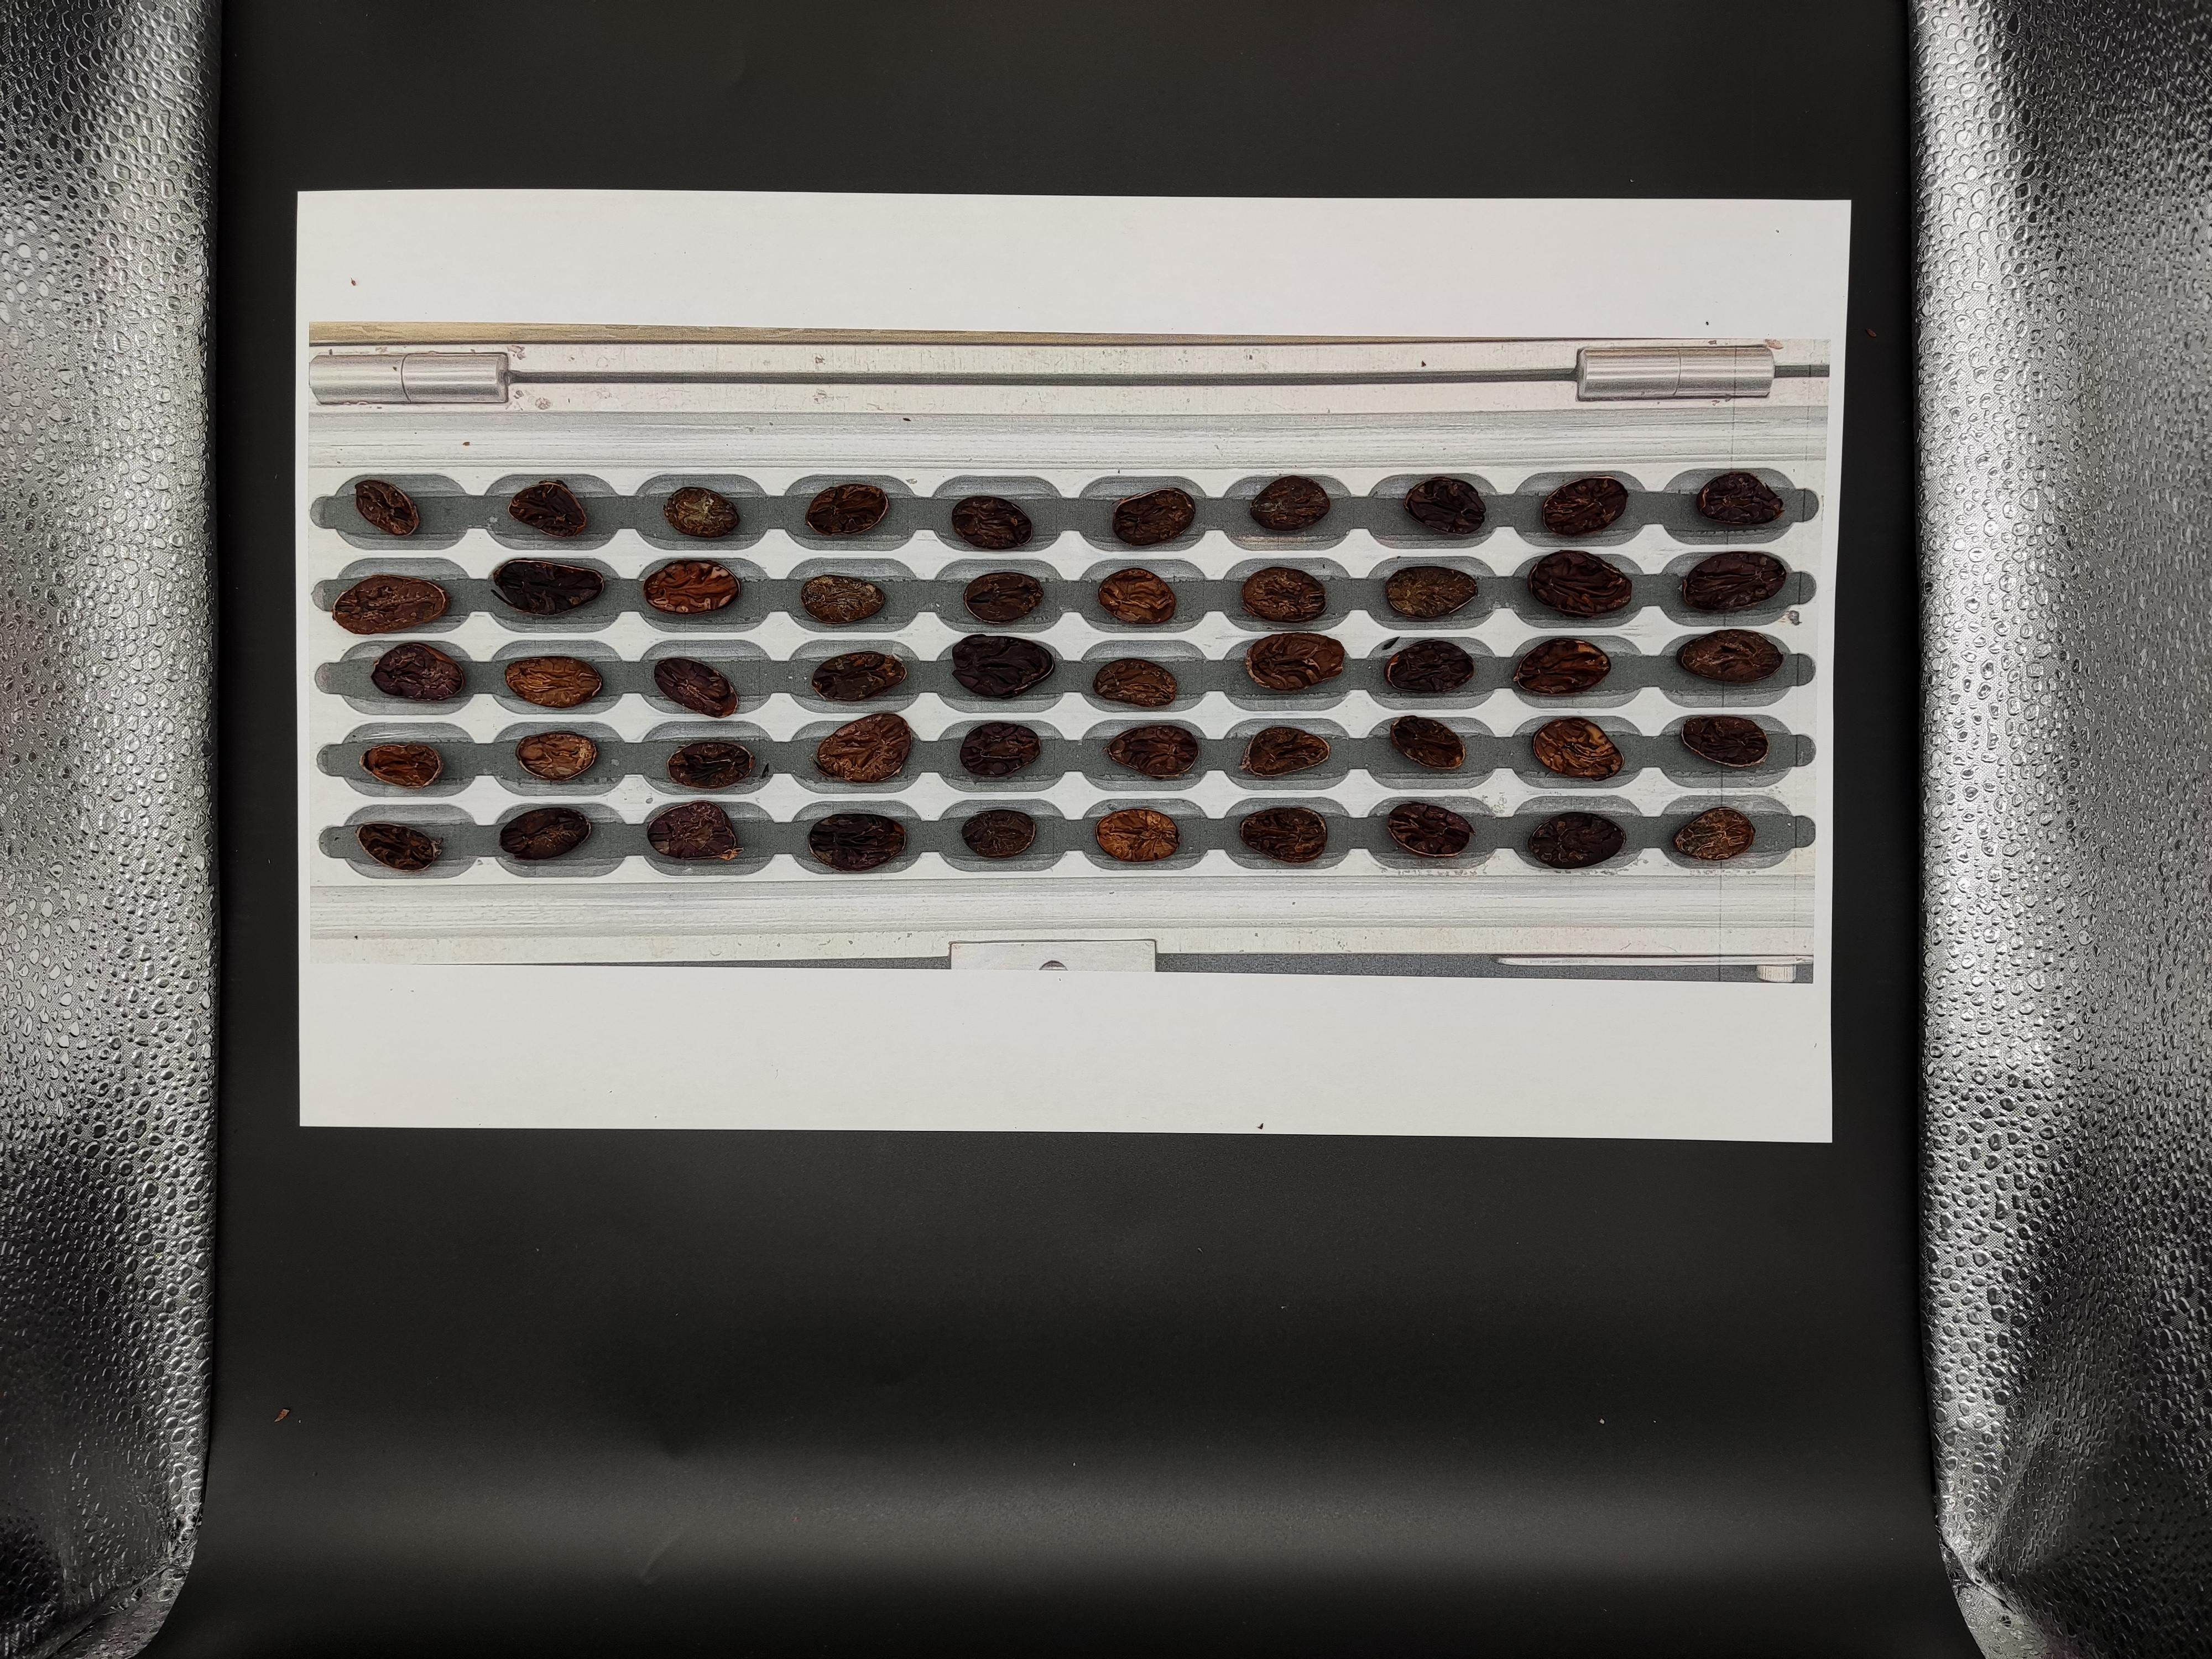Brown - G1: (1860, 1089, 1919, 1129), (1406, 1093, 1461, 1127), (1853, 1134, 1907, 1169)
Brown - G2: (1496, 1171, 1552, 1215), (1860, 1175, 1916, 1213), (1716, 1131, 1771, 1168), (1489, 1053, 1540, 1089), (1712, 1220, 1764, 1255), (1867, 1051, 1916, 1087), (1712, 1180, 1764, 1211), (1644, 1178, 1696, 1209), (1639, 1098, 1686, 1133), (1789, 1173, 1832, 1206)
Brown - G3: (1937, 1129, 1996, 1162), (1646, 1054, 1696, 1093), (1712, 1100, 1764, 1131), (1635, 1222, 1688, 1253), (1569, 1100, 1616, 1134), (1635, 1145, 1684, 1175), (1364, 1143, 1392, 1175), (1364, 1183, 1388, 1213)
Insect-damaged: (1787, 1098, 1839, 1129)
Mouldy: (1486, 1100, 1538, 1133), (1717, 1051, 1764, 1086), (1935, 1220, 1980, 1255), (1569, 1222, 1615, 1255), (1416, 1056, 1463, 1087)
Partly Purple - G1: (1564, 1131, 1623, 1169), (1787, 1216, 1838, 1253)
Partly Purple - G2: (1939, 1089, 1998, 1126), (1491, 1225, 1548, 1258), (1787, 1134, 1838, 1169), (1568, 1178, 1616, 1211), (1420, 1185, 1470, 1216), (1364, 1093, 1392, 1129)
Partly Purple - G3: (1409, 1143, 1461, 1182)
Total Purple - G2: (1946, 1047, 1996, 1082)
Total Purple - G3: (1407, 1216, 1461, 1253)
Very Dark Brown - G2: (1937, 1169, 1987, 1206), (1562, 1061, 1613, 1096), (1796, 1051, 1843, 1087), (1364, 1053, 1383, 1091)
Very Dark Brown - G3: (1860, 1223, 1919, 1260), (1493, 1141, 1548, 1173), (1364, 1220, 1385, 1255)
